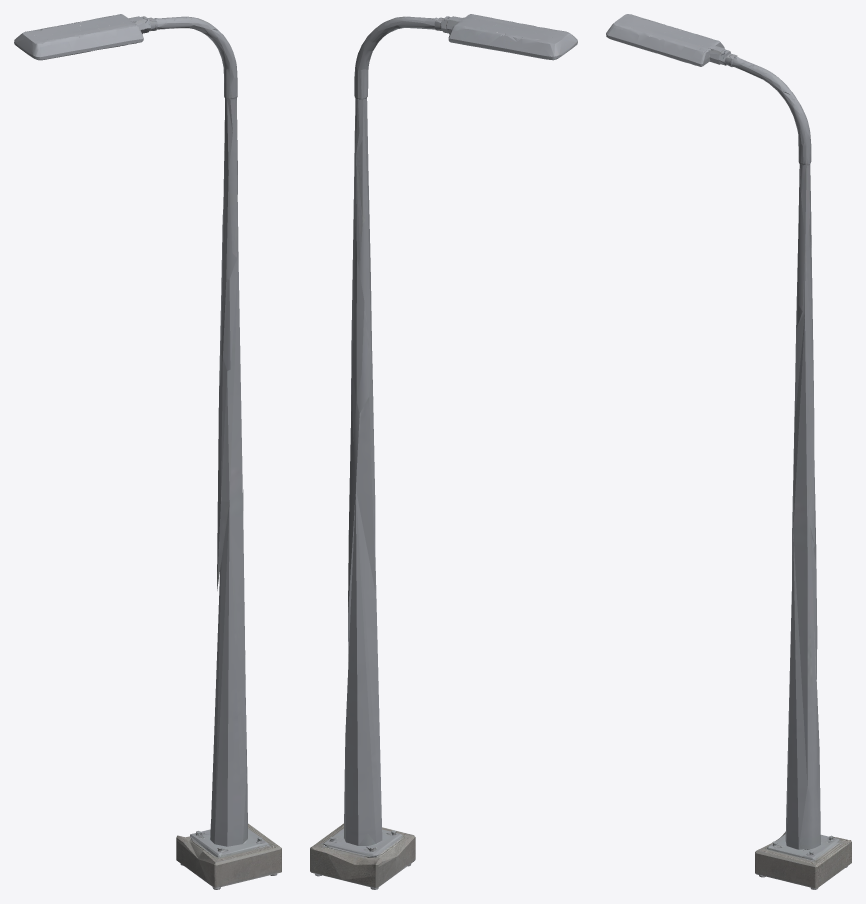
File: w4streetlamp.glb
The picture shows the model from 3 angles, left to right: view 1: azimuth 30°, elevation 25°; view 2: azimuth 150°, elevation 25°; view 3: azimuth 330°, elevation 25°; orthographic projection. The views are drawn at different scales.
Parts seen in each view (by area): view 1: output_unwrapped; view 2: output_unwrapped; view 3: output_unwrapped.
Boxes of the visible parts, x1,y1,x2,y2 form: output_unwrapped: (14, 14, 281, 889); output_unwrapped: (310, 14, 577, 889); output_unwrapped: (606, 14, 851, 889).
Size of the model in its own units: 1.99 by 7 by 0.5708.
1 material, 1 textured.
